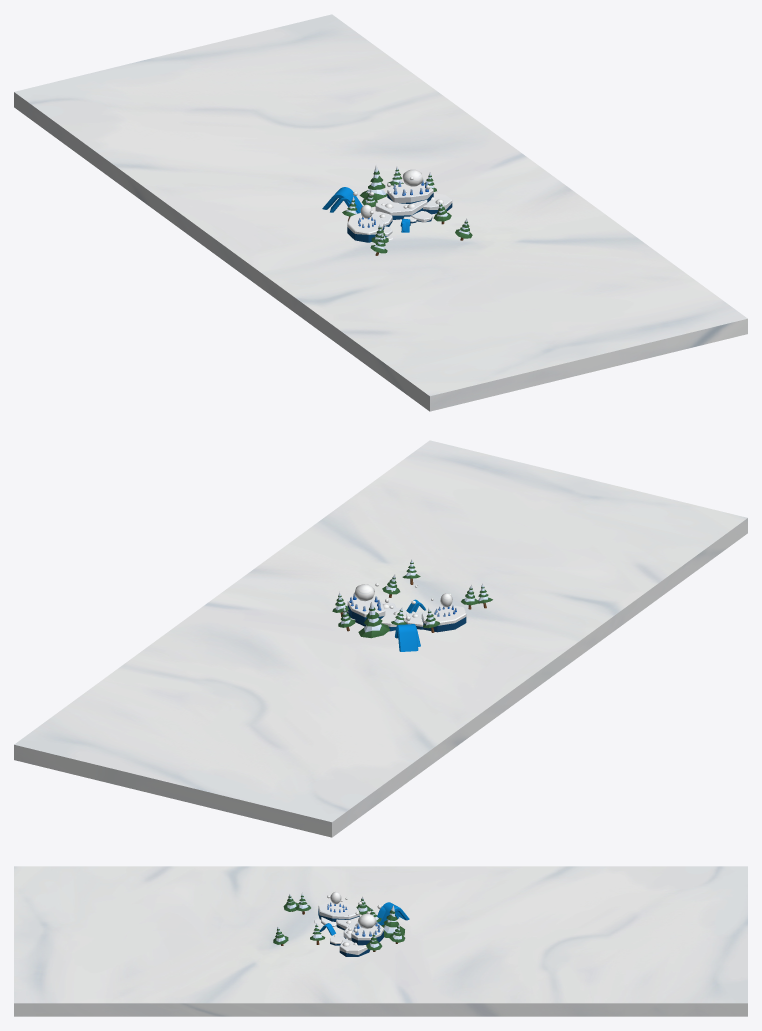
The model's file is new_environment_9.fbx.
3 renders of one model, top to bottom at view 1: azimuth 30°, elevation 25°; view 2: azimuth 150°, elevation 25°; view 3: azimuth 270°, elevation 25°, orthographic. The views are drawn at different scales.
Parts seen in each view (by area): view 1: pCube1, pCylinder22, pCylinder21; view 2: pCube1, pCylinder21, pCylinder22; view 3: pCube1, pCylinder22, pCylinder21, pCylinder44, pCone11.
Boxes of the visible parts, x1,y1,x2,y2 form: pCube1: [14, 14, 747, 411]; pCylinder22: [375, 183, 452, 223]; pCylinder21: [347, 211, 392, 242]; pCube1: [14, 440, 747, 837]; pCylinder21: [406, 605, 466, 632]; pCylinder22: [343, 597, 406, 631]; pCube1: [14, 866, 747, 1016]; pCylinder22: [330, 921, 383, 956]; pCylinder21: [314, 902, 359, 930]; pCylinder44: [377, 902, 409, 925]; pCone11: [381, 905, 404, 937].
Bounding box in the file's own units: 149 × 22.51 × 337.
Materials: 4 (3 with a texture image).
